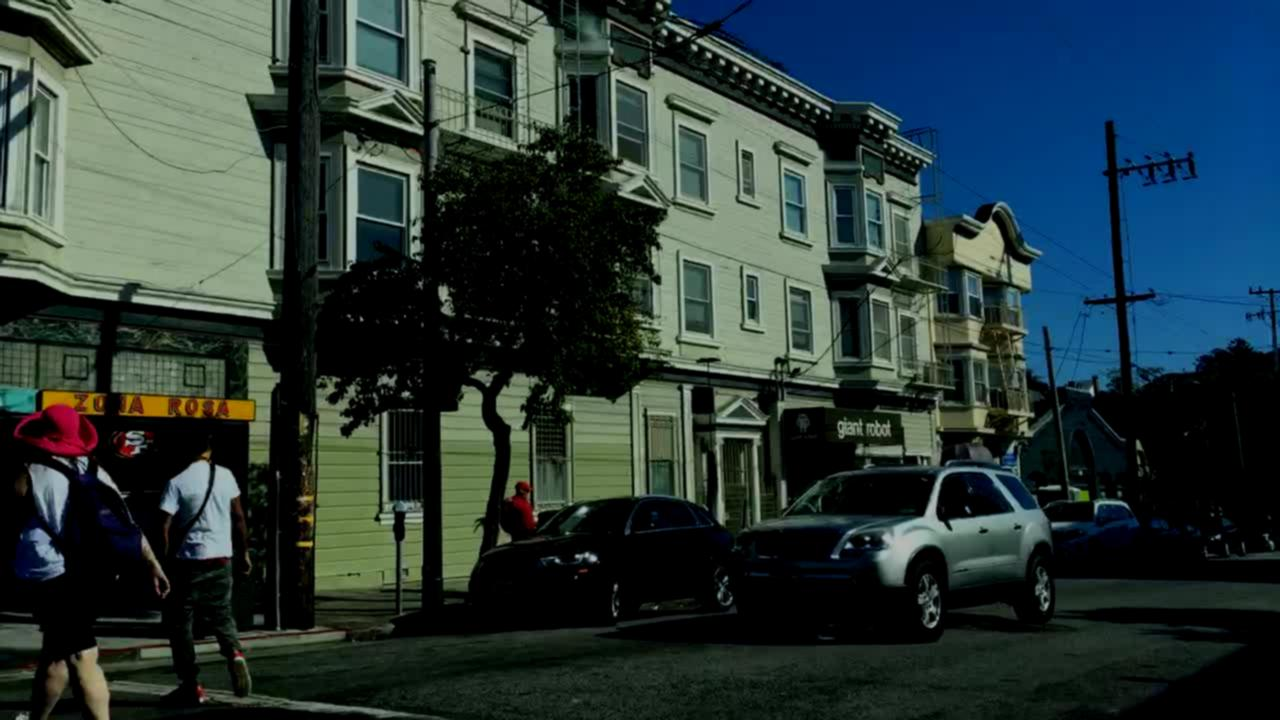Audi: (491, 563, 519, 576)
